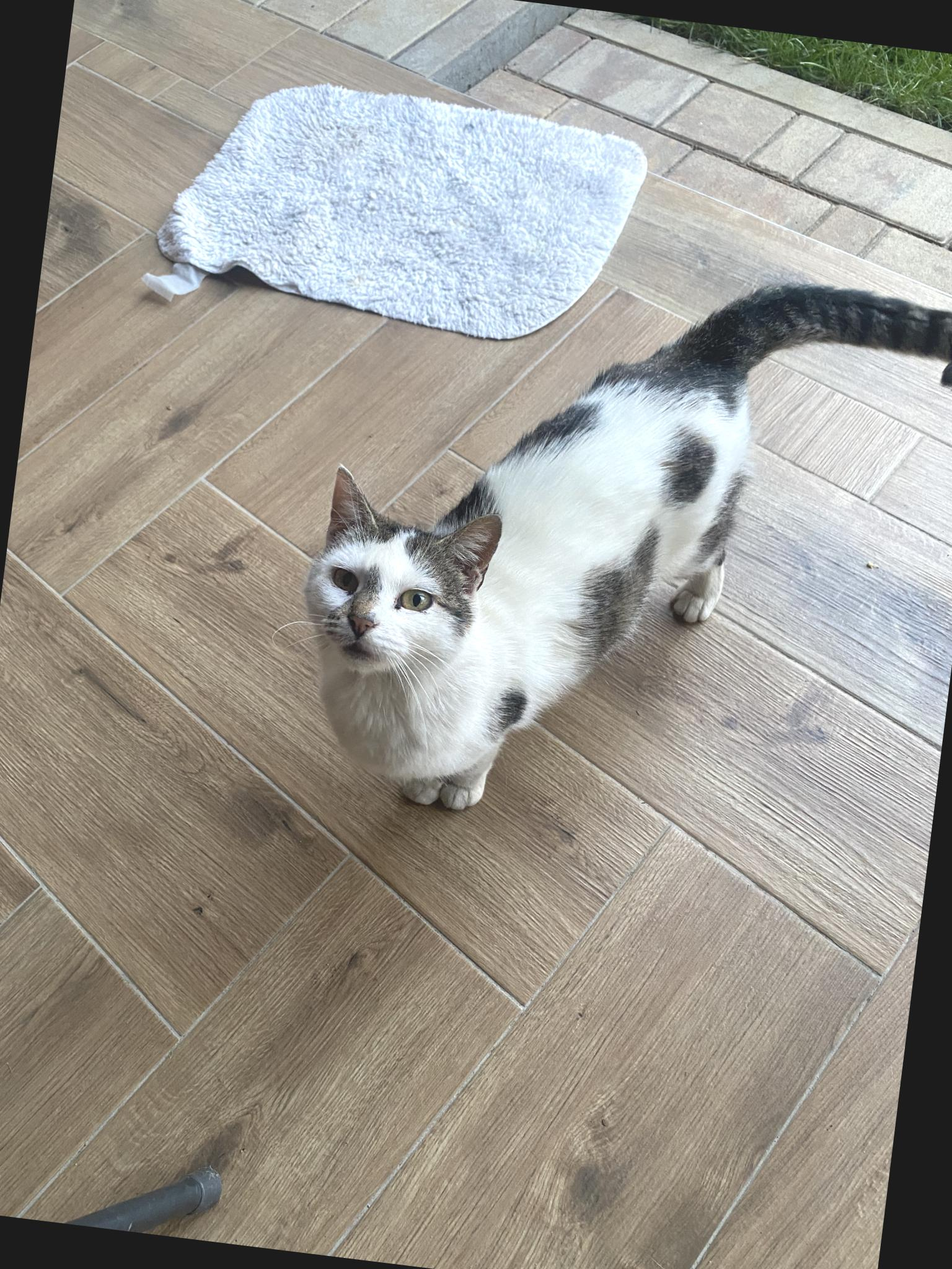macka: (281, 224, 952, 869)
